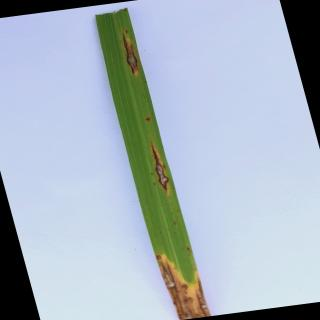Blast: (150, 144, 171, 195), (122, 34, 141, 77), (160, 264, 176, 289), (198, 302, 210, 313), (181, 283, 190, 291), (156, 254, 162, 261), (145, 117, 151, 121), (176, 314, 182, 318), (189, 297, 194, 301), (200, 313, 204, 315)
